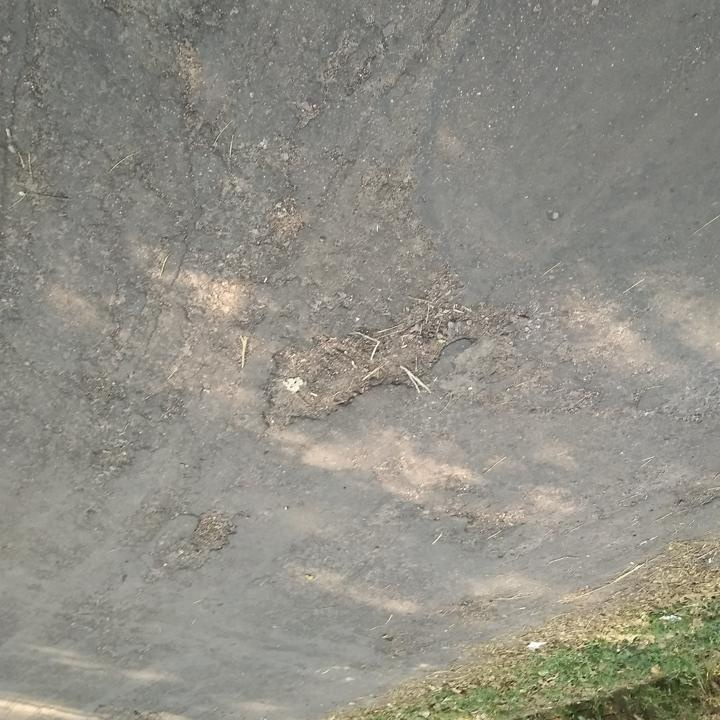pothole: (259, 303, 495, 436), (160, 508, 242, 573), (672, 486, 720, 512)
